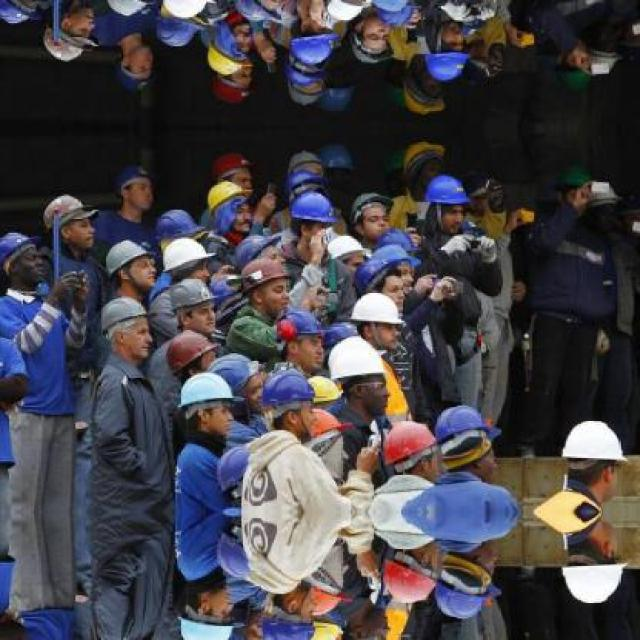helmet: (562, 416, 629, 502), (562, 522, 629, 607), (433, 405, 499, 476), (433, 548, 499, 618), (328, 343, 388, 414), (382, 420, 442, 482), (382, 541, 442, 603), (180, 372, 232, 438), (97, 295, 152, 357), (260, 373, 315, 434), (206, 353, 262, 410), (40, 191, 94, 245), (40, 10, 94, 64), (168, 278, 220, 334), (348, 292, 399, 348), (274, 308, 323, 366), (180, 586, 234, 637), (260, 589, 317, 637), (292, 5, 336, 66), (237, 259, 289, 310), (292, 190, 336, 250), (104, 237, 154, 289), (402, 138, 447, 195), (402, 61, 447, 118), (152, 207, 208, 251), (152, 4, 208, 48), (351, 252, 403, 299), (424, 23, 465, 82), (206, 20, 249, 76), (167, 332, 218, 379), (424, 174, 465, 232), (206, 180, 249, 235), (315, 138, 359, 190), (0, 231, 43, 283), (315, 66, 359, 116), (162, 236, 210, 281), (347, 189, 391, 238), (347, 17, 391, 66), (210, 147, 255, 194), (210, 62, 255, 108), (558, 164, 596, 218), (558, 38, 596, 92), (112, 164, 153, 211), (112, 45, 153, 91), (324, 231, 364, 276), (328, 609, 389, 637), (287, 52, 328, 90), (287, 166, 328, 203), (206, 612, 263, 637), (0, 0, 45, 26), (103, 0, 155, 20), (325, 0, 366, 25), (162, 0, 212, 20)
